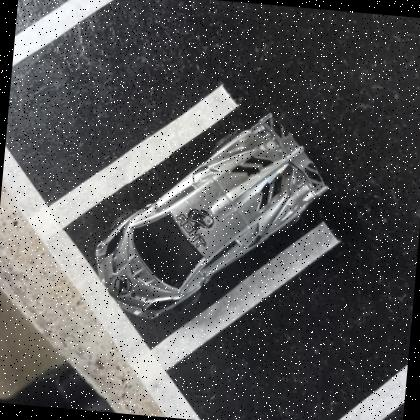Car: (93, 110, 328, 320)
